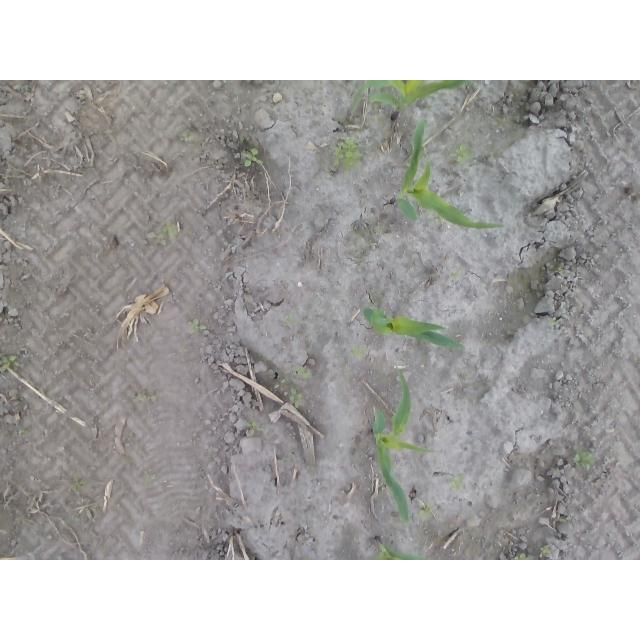Maize: (384, 114, 504, 231), (369, 372, 437, 523), (363, 307, 467, 353), (349, 86, 469, 122), (373, 536, 427, 561)
Weeds: (335, 134, 362, 170), (575, 450, 593, 471), (456, 145, 473, 164), (240, 149, 257, 167), (160, 220, 177, 237), (0, 354, 18, 370), (419, 503, 434, 520), (290, 389, 302, 408), (451, 474, 465, 490), (349, 343, 363, 357), (192, 318, 207, 331), (246, 422, 262, 433), (297, 367, 312, 378), (182, 130, 195, 142), (513, 552, 531, 560), (541, 545, 552, 556)
